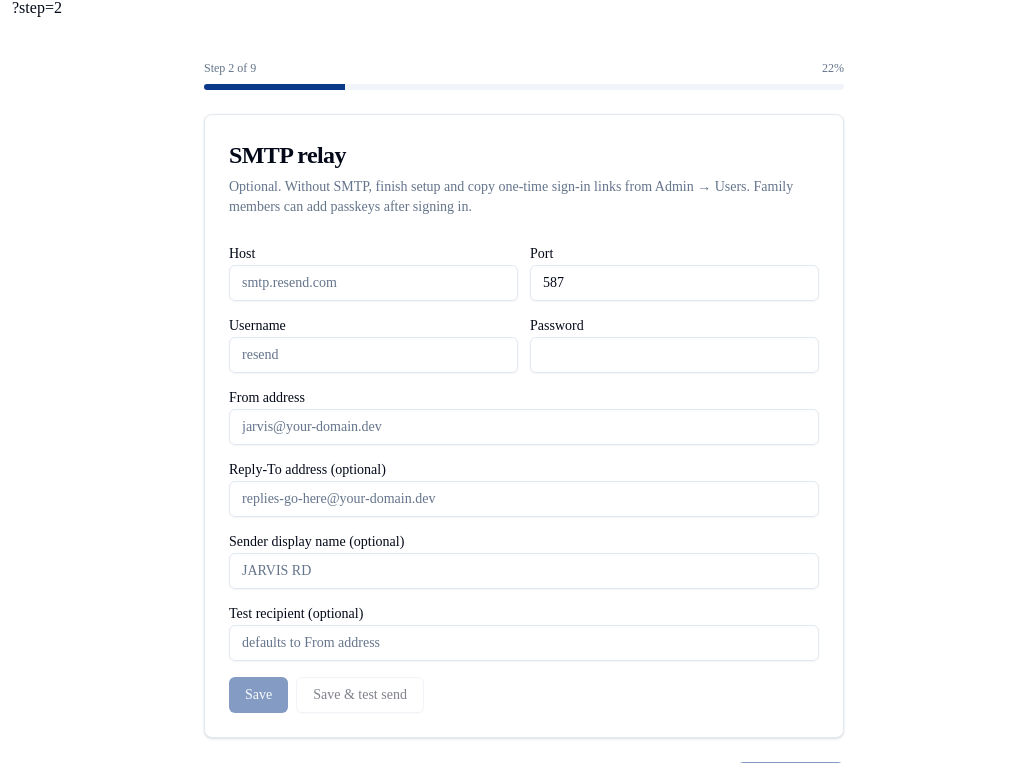
OnboardingWizard › (GAP-4) SMTP step Continue saves dirty form before advancing
Expected: the heading "SMTP relay" is shown, x1=229 y1=142 x2=346 y2=168
Type "smtp.example.com" into the field labelled "Host" at (374, 283), box x1=229 y1=265 x2=518 y2=301
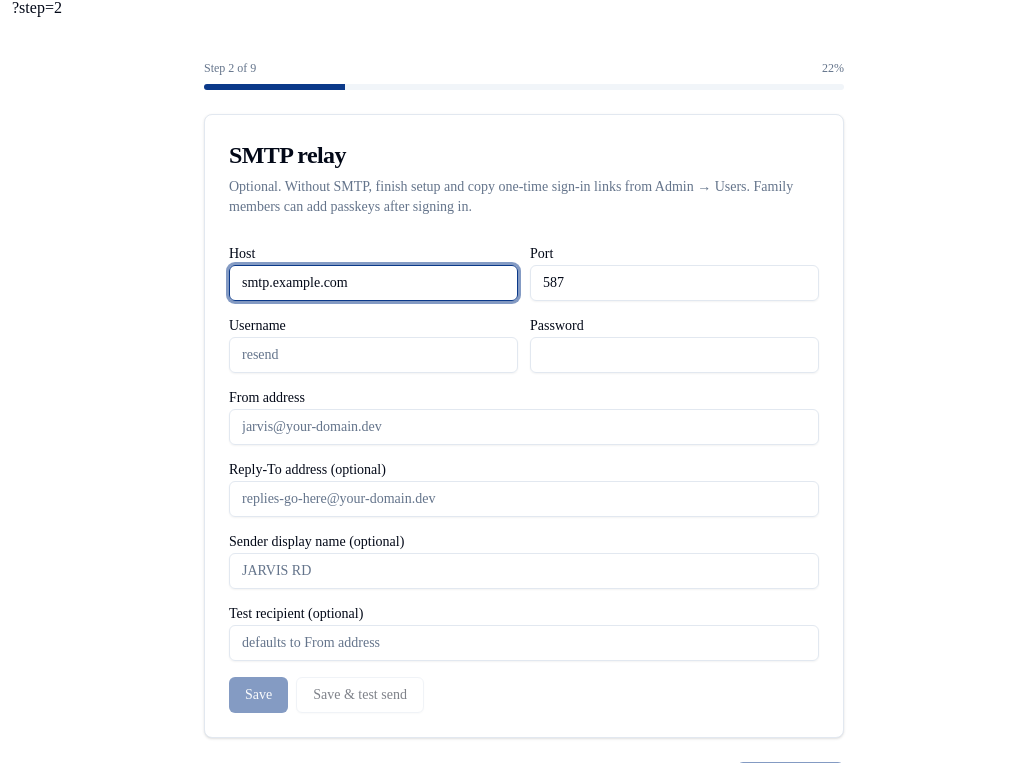
Type "jarvis@example.com" into the field labelled "From address" at (524, 427), box x1=229 y1=409 x2=819 y2=445
(page scrolled)
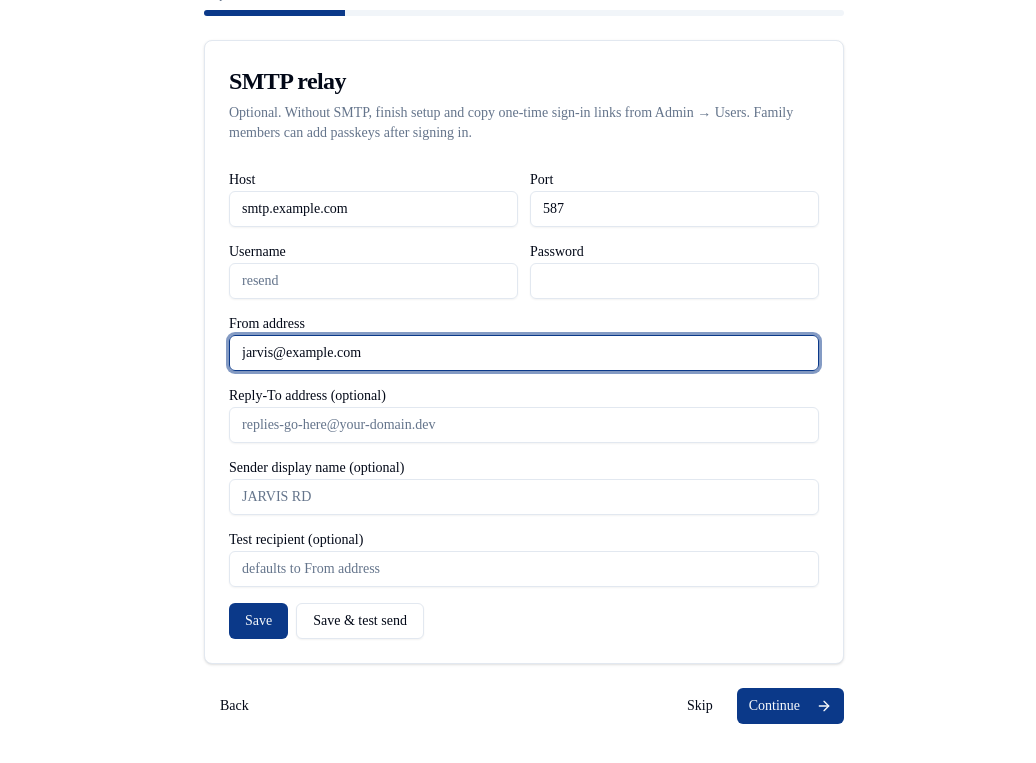
// Click Continue — should trigger save then advance.
Click the button "Continue" at (790, 706), box x1=737 y1=688 x2=844 y2=724
(page scrolled)
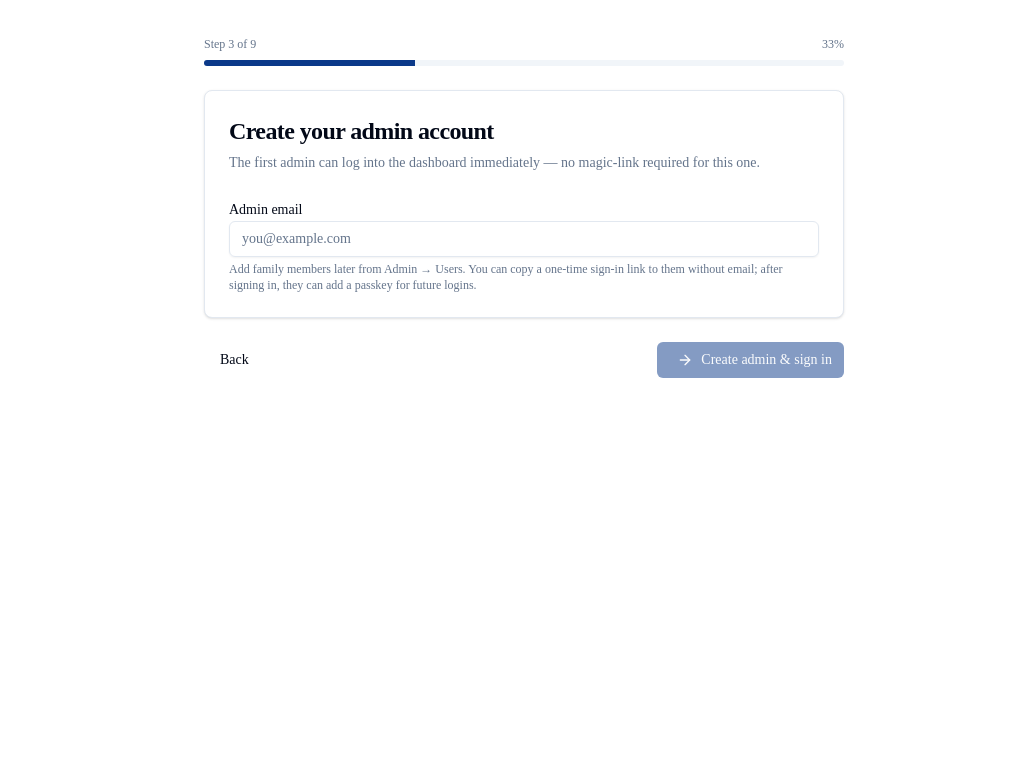
Now the heading "Create your admin account" is shown, box x1=229 y1=118 x2=494 y2=144
